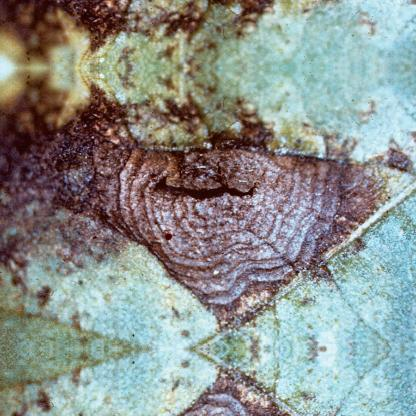Early-Blight: (0, 68, 410, 347), (0, 349, 410, 416), (0, 0, 410, 65)
